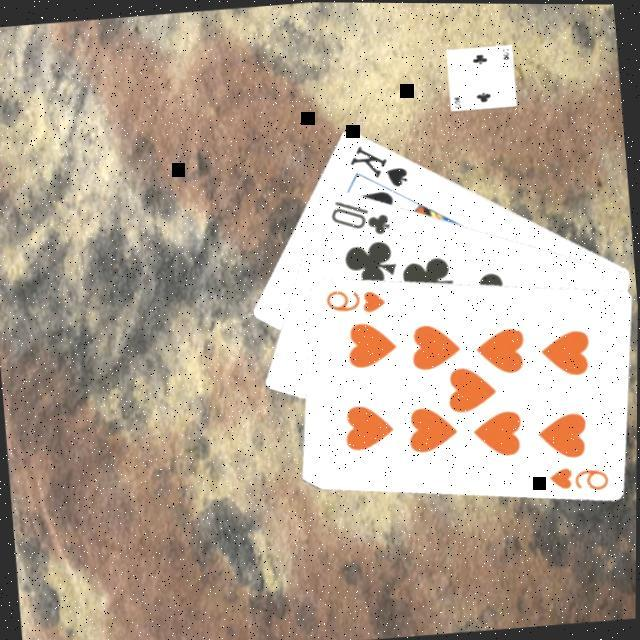10C: (327, 190, 396, 239)
9H: (322, 279, 391, 317), (546, 457, 614, 495)
KS: (346, 136, 413, 192)
